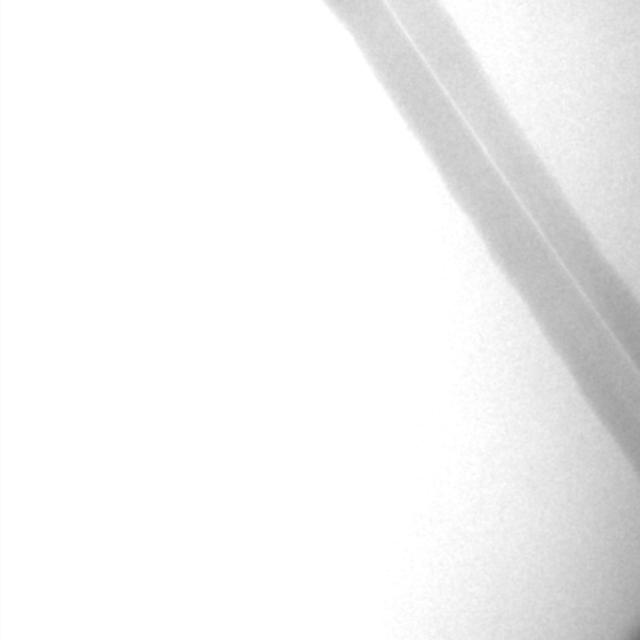broken arc: (385, 4, 635, 361)
